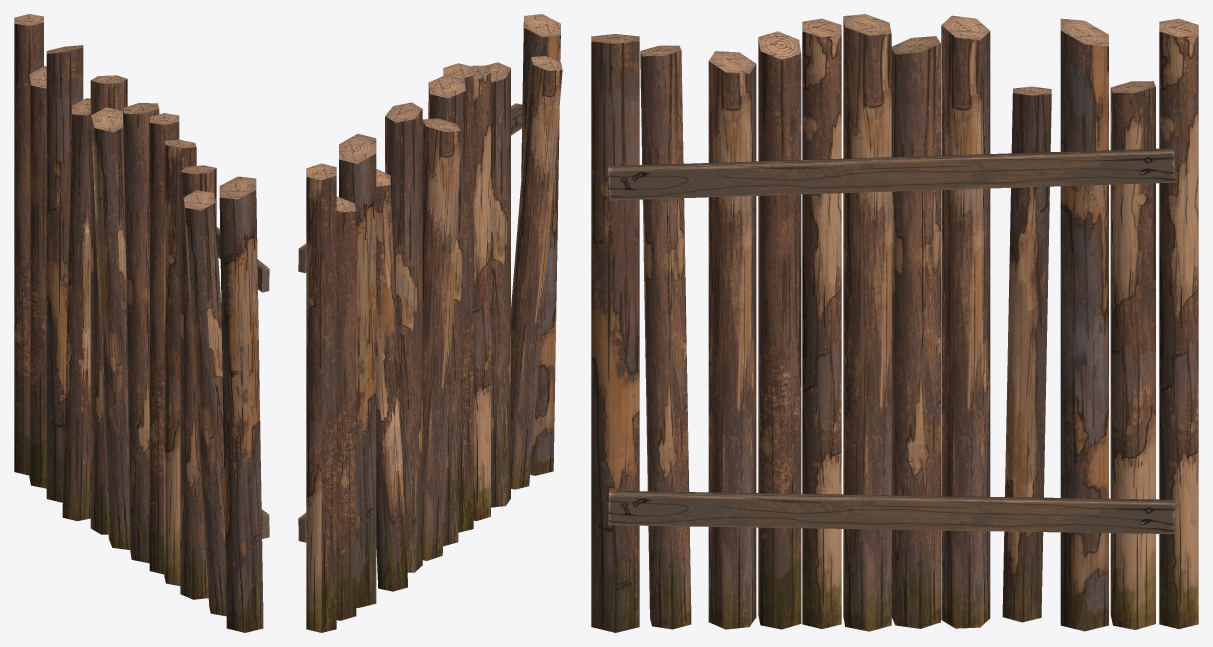
The model's file is fence_log_4m_C.FBX.
3 renders of one model, left to right at view 1: azimuth 30°, elevation 25°; view 2: azimuth 150°, elevation 25°; view 3: azimuth 270°, elevation 25°, orthographic. The views are drawn at different scales.
Parts seen in each view (by area): view 1: fence_log_4m_C; view 2: fence_log_4m_C; view 3: fence_log_4m_C.
Part boxes in pixels (left/top/right/bottom): fence_log_4m_C: left=14, top=14, right=269, bottom=632; fence_log_4m_C: left=298, top=14, right=562, bottom=632; fence_log_4m_C: left=591, top=14, right=1198, bottom=632.
Bounding box in the file's own units: 65.09 × 430 × 397.
